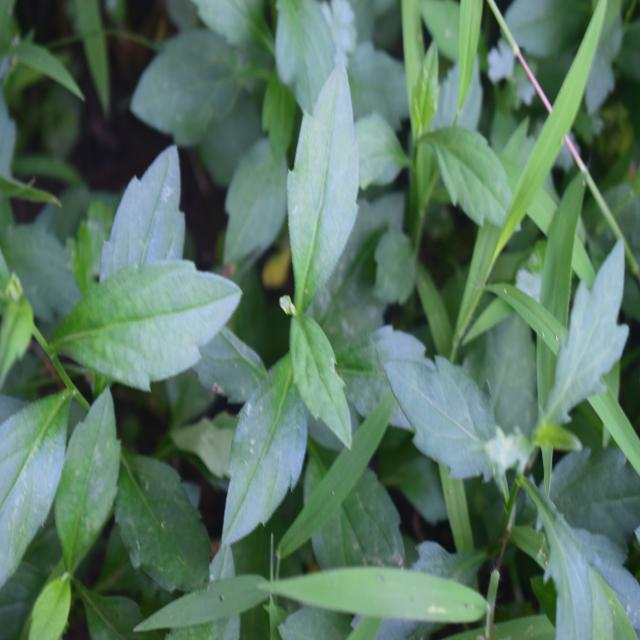Indian aster: (202, 73, 402, 512)
